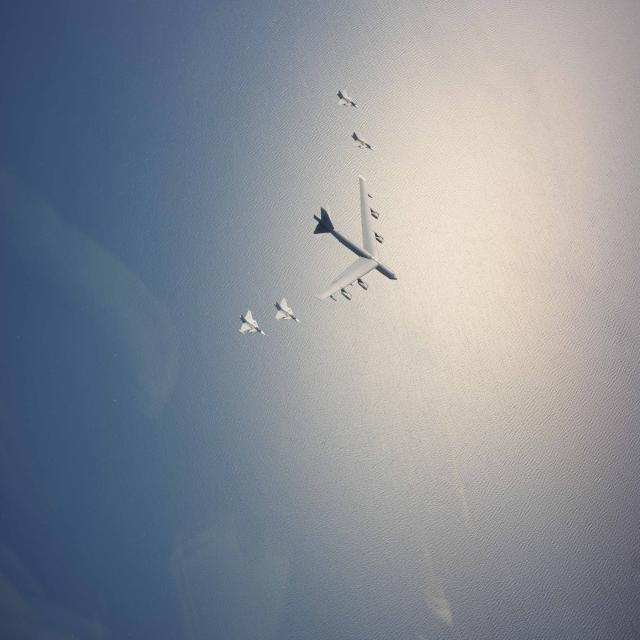MIL_Plane: (312, 175, 397, 301), (238, 309, 266, 336), (274, 297, 300, 323), (351, 130, 374, 151), (336, 89, 358, 108)
